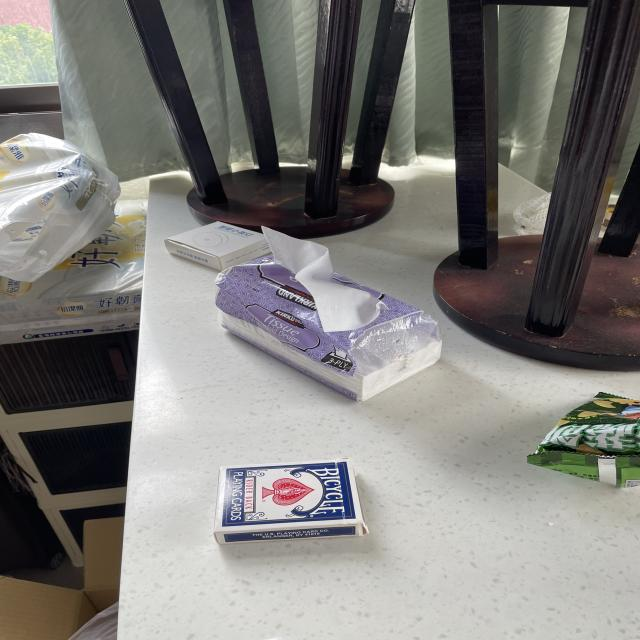tissue: (210, 223, 453, 405)
